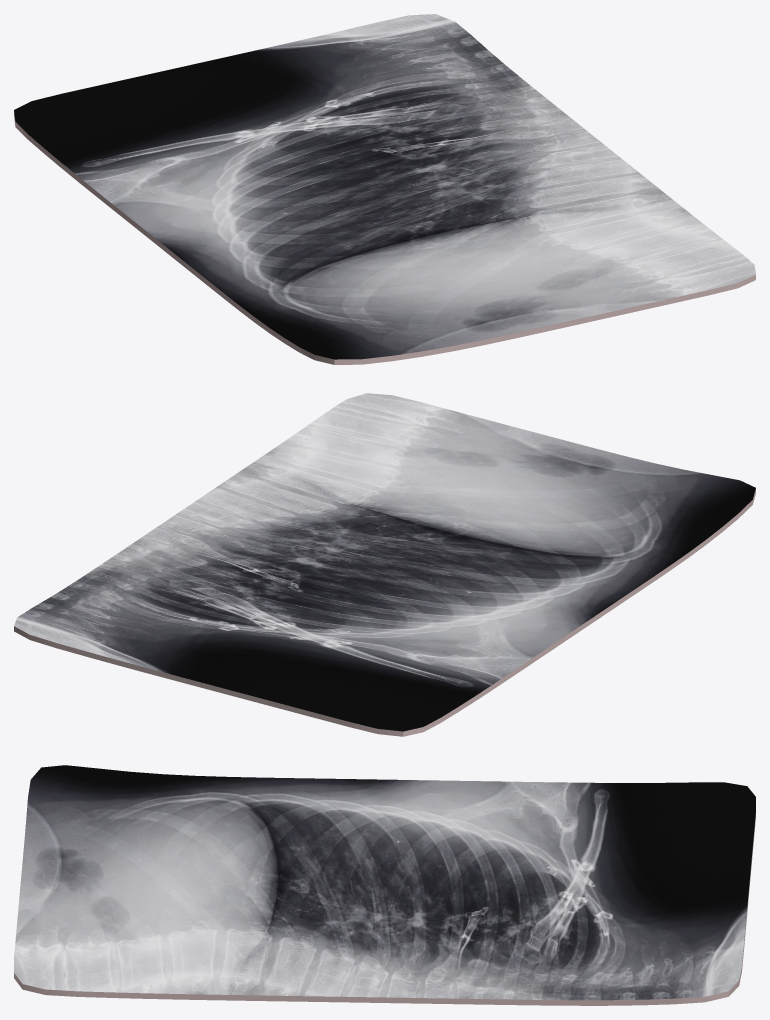
File: PapelRayosX.fbx
3 views of the same model, one above another, from view 1: azimuth 30°, elevation 25°; view 2: azimuth 150°, elevation 25°; view 3: azimuth 270°, elevation 25° (orthographic). The views are drawn at different scales.
Visible parts, largest first — view 1: Plane.003; view 2: Plane.003; view 3: Plane.003.
Part boxes in pixels (x1,y1,x2,y2): Plane.003: (14,14,755,364); Plane.003: (14,393,755,736); Plane.003: (14,765,755,1005).
Bounding box in the file's own units: 21.91 × 0.7824 × 30.25.
Materials: 2 (1 with a texture image).
